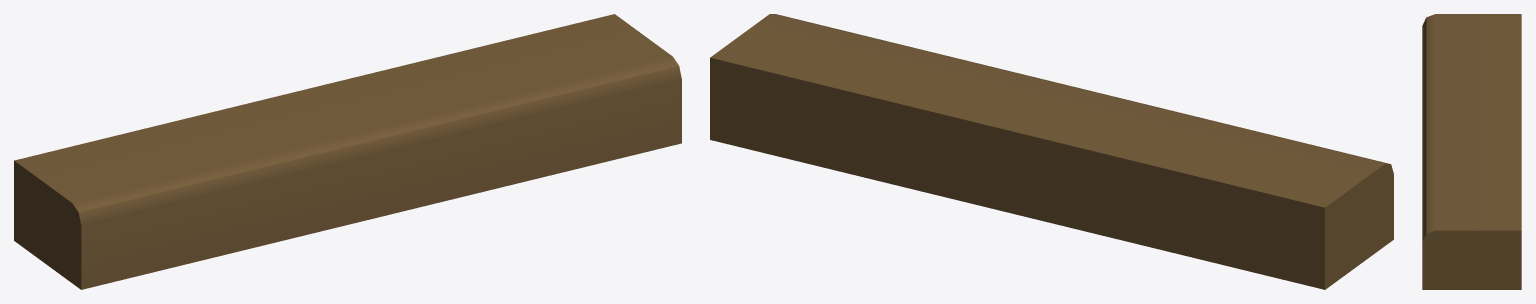
The model's file is Step.fbx.
3 views of the same model, side by side, from view 1: azimuth 30°, elevation 25°; view 2: azimuth 150°, elevation 25°; view 3: azimuth 270°, elevation 25° (orthographic). The views are drawn at different scales.
Parts seen in each view (by area): view 1: polySurface3933; view 2: polySurface3933; view 3: polySurface3933.
Boxes of the visible parts, <box> form: polySurface3933: <box>14,14,681,289</box>; polySurface3933: <box>710,14,1393,289</box>; polySurface3933: <box>1422,14,1521,289</box>.
Size of the model in its own units: 4.06 by 0.5194 by 0.7868.
